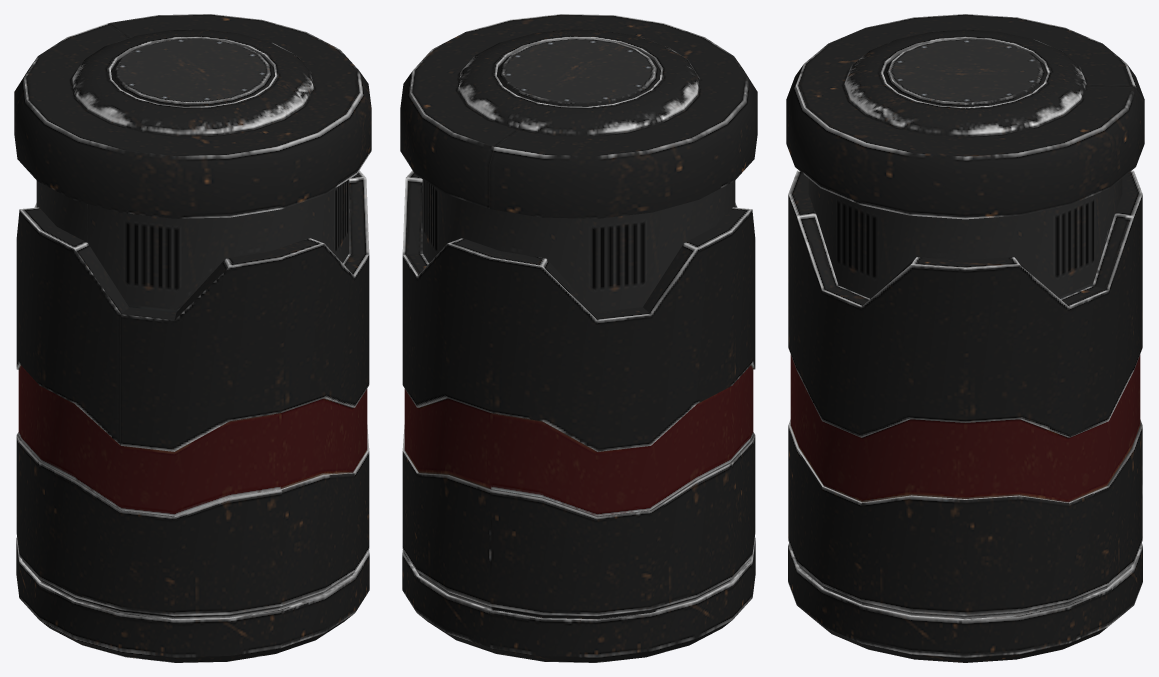
Rendered from ScifiBarrel.fbx.
3 views of the same model, side by side, from view 1: azimuth 30°, elevation 25°; view 2: azimuth 150°, elevation 25°; view 3: azimuth 270°, elevation 25° (orthographic).
Visible parts, largest first — view 1: ScifiBarrel; view 2: ScifiBarrel; view 3: ScifiBarrel.
Part boxes in pixels (x1,y1,x2,y2): ScifiBarrel: (14, 14, 371, 662); ScifiBarrel: (400, 14, 757, 662); ScifiBarrel: (786, 14, 1144, 662).
Bounding box in the file's own units: 279 × 448 × 279.
